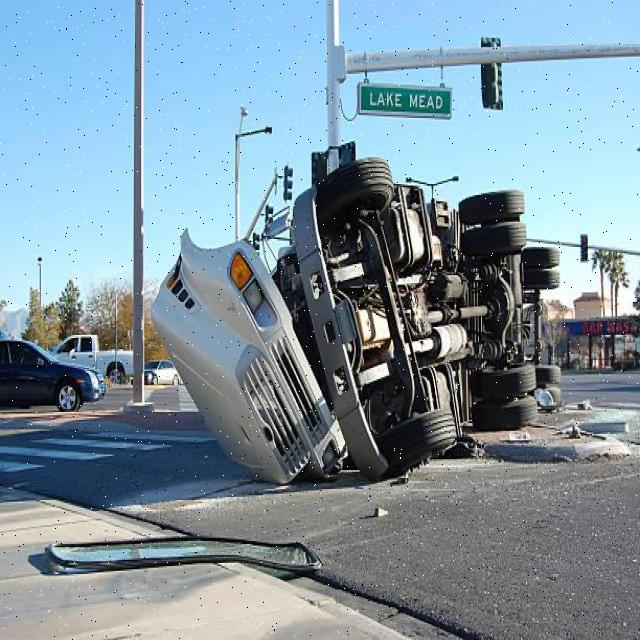severe: (145, 143, 571, 488)
